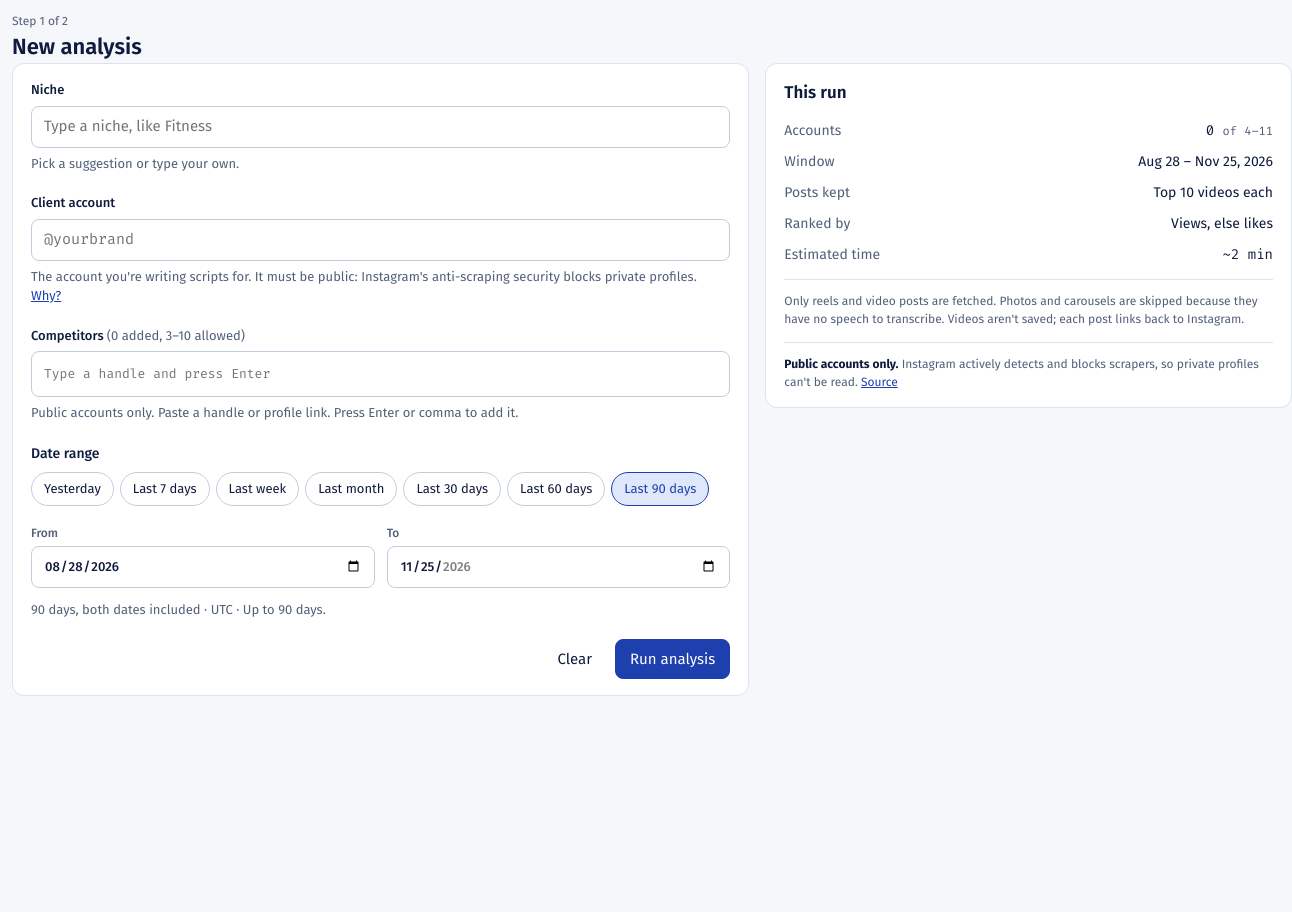
Scenario: NewRunForm › validates an empty client on blur
Click the field labelled "Client account" at (381, 240), box [31, 218, 730, 260]
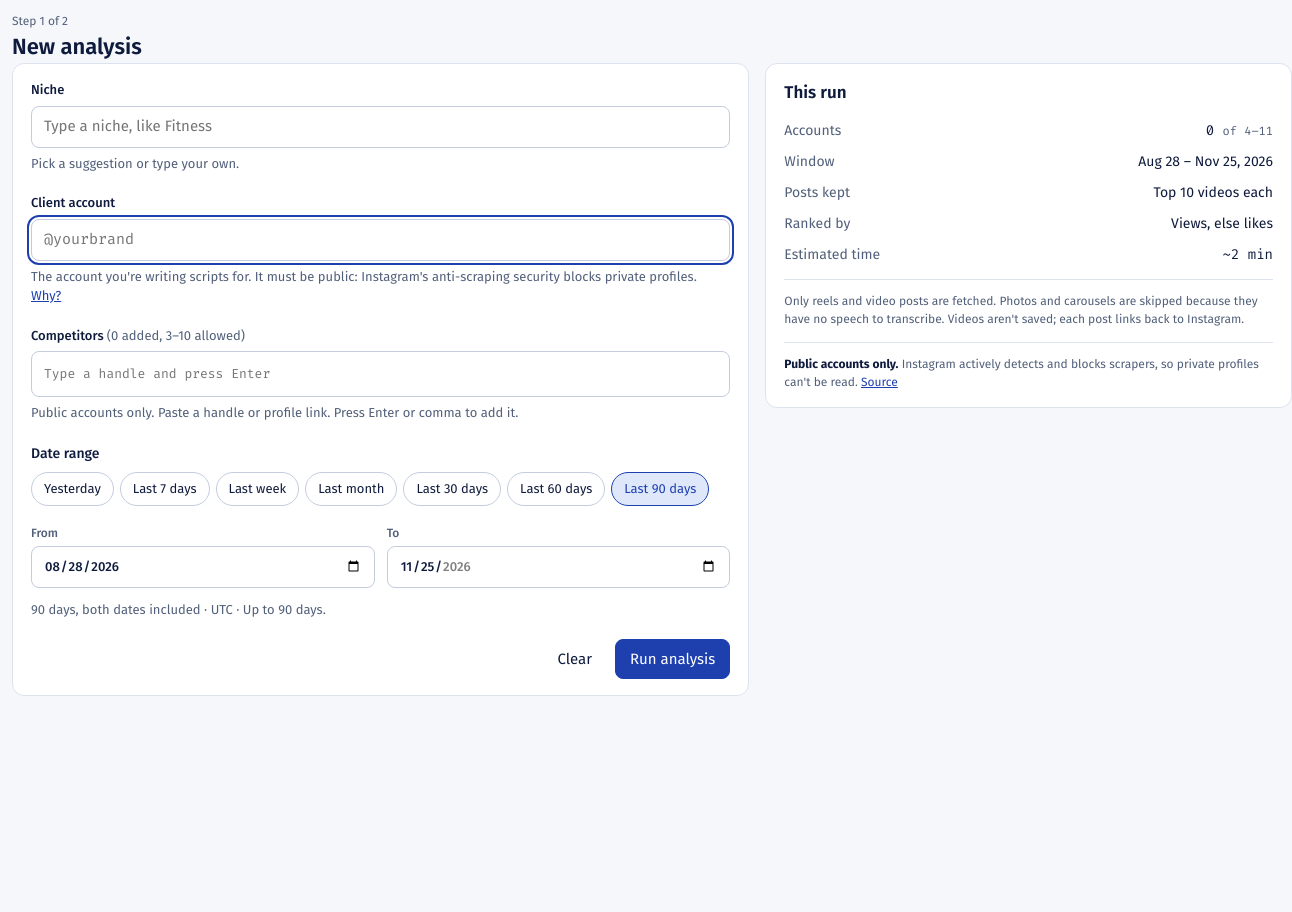
Press Tab
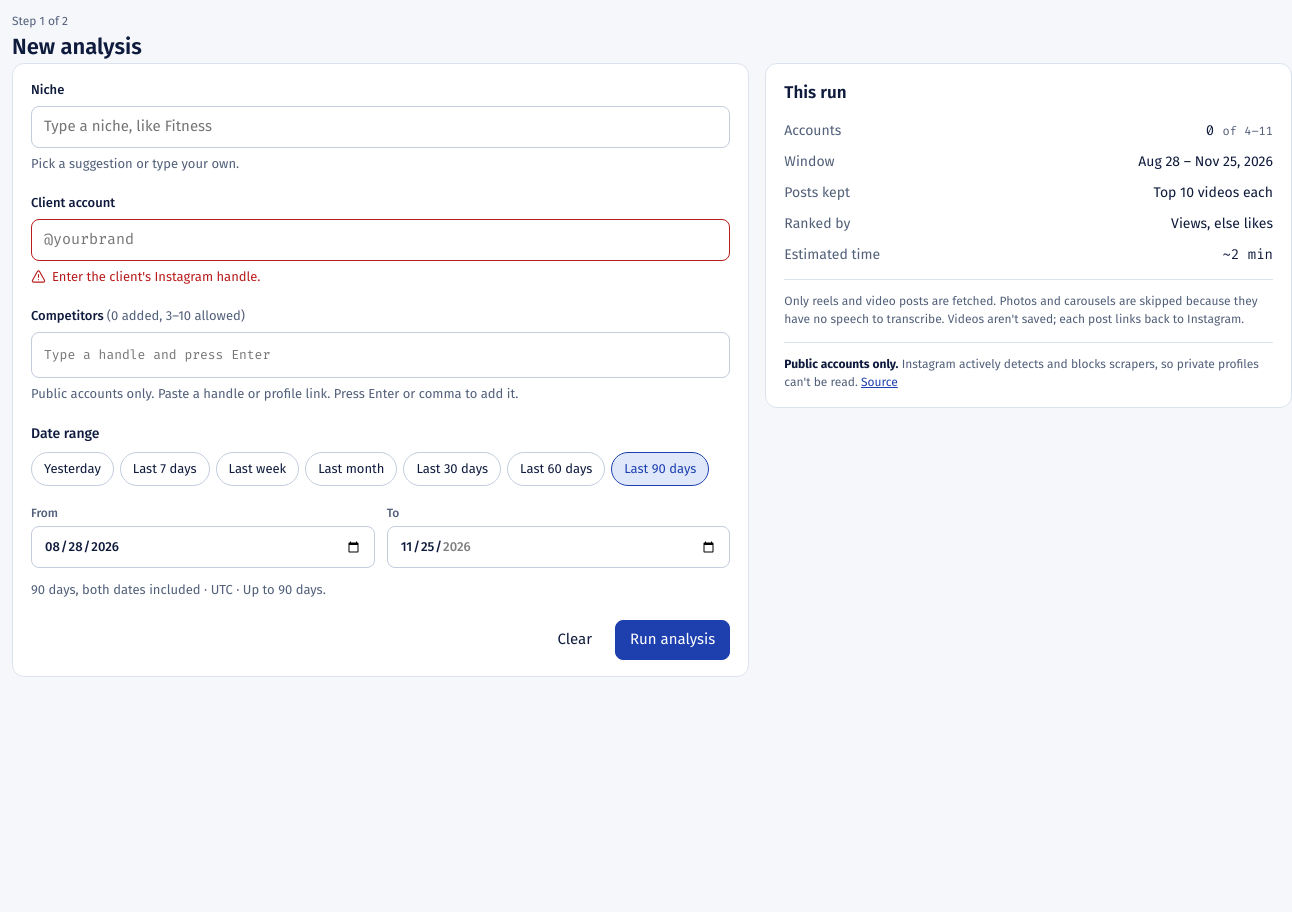
Expected: the text "Enter the client's Instagram handle." is shown, [31, 268, 260, 284]
